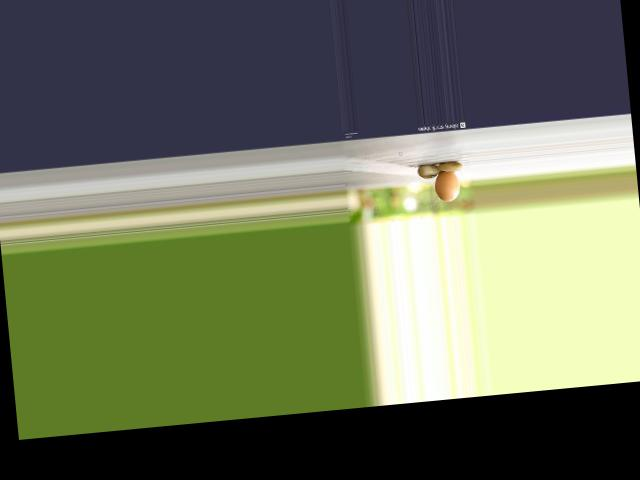egg: (432, 169, 460, 201)
